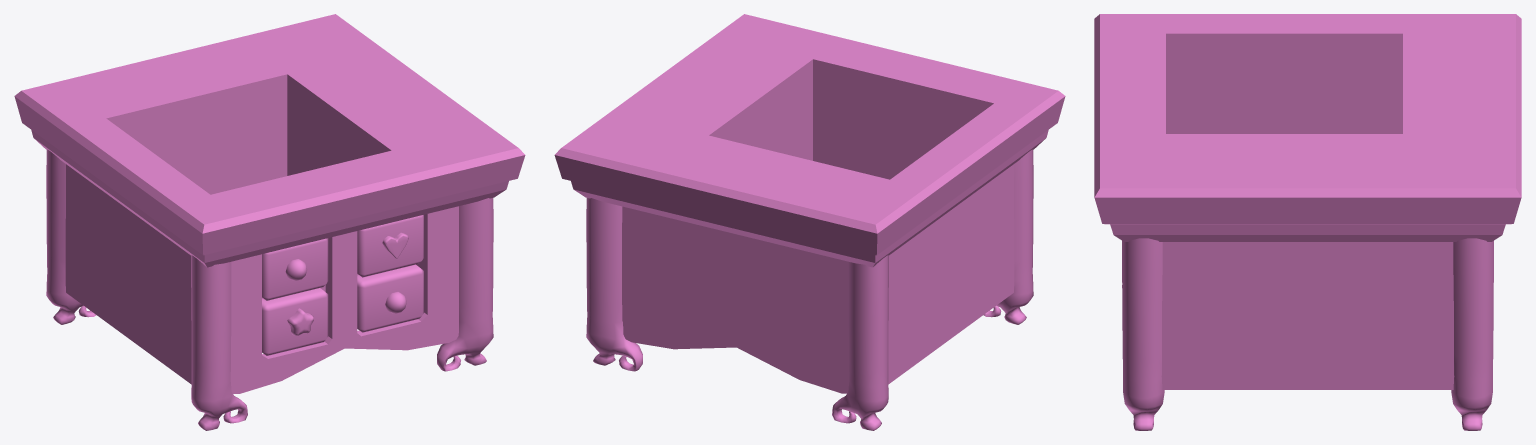
File: ENV_HAU_WORKSTATIONSINK_MODEL (2).fbx
3 views of the same model, side by side, from view 1: azimuth 30°, elevation 25°; view 2: azimuth 150°, elevation 25°; view 3: azimuth 270°, elevation 25° (orthographic). The views are drawn at different scales.
Parts seen in each view (by area): view 1: ENV_HAU_WORKSTATIONSINK_MODEL; view 2: ENV_HAU_WORKSTATIONSINK_MODEL; view 3: ENV_HAU_WORKSTATIONSINK_MODEL.
Part boxes in pixels (x1=…): ENV_HAU_WORKSTATIONSINK_MODEL: x1=14, y1=14, x2=525, y2=430; ENV_HAU_WORKSTATIONSINK_MODEL: x1=554, y1=14, x2=1065, y2=430; ENV_HAU_WORKSTATIONSINK_MODEL: x1=1094, y1=14, x2=1521, y2=430.
Size of the model in its own units: 98.78 by 64.93 by 99.6.
